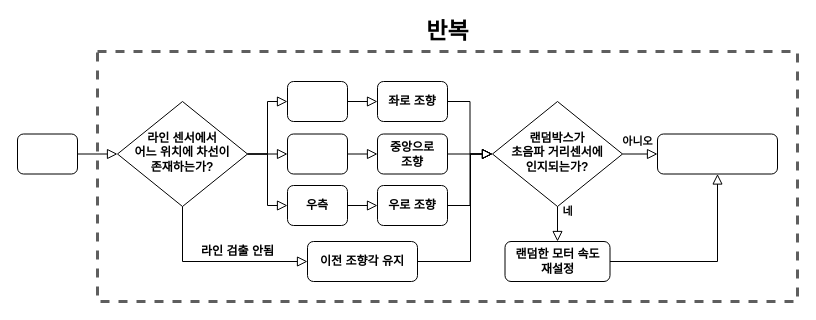
The diagram is 816 pixels wide and 320 high, and some of its shapes have lost their labels. Here are the shapes that lost their labels. From the top down, the centre of each, then its label:
point 317,101: 좌측
point 47,153: 출발
point 317,153: 중앙
point 717,153: 설정된 모터 속도로 모터 주행
